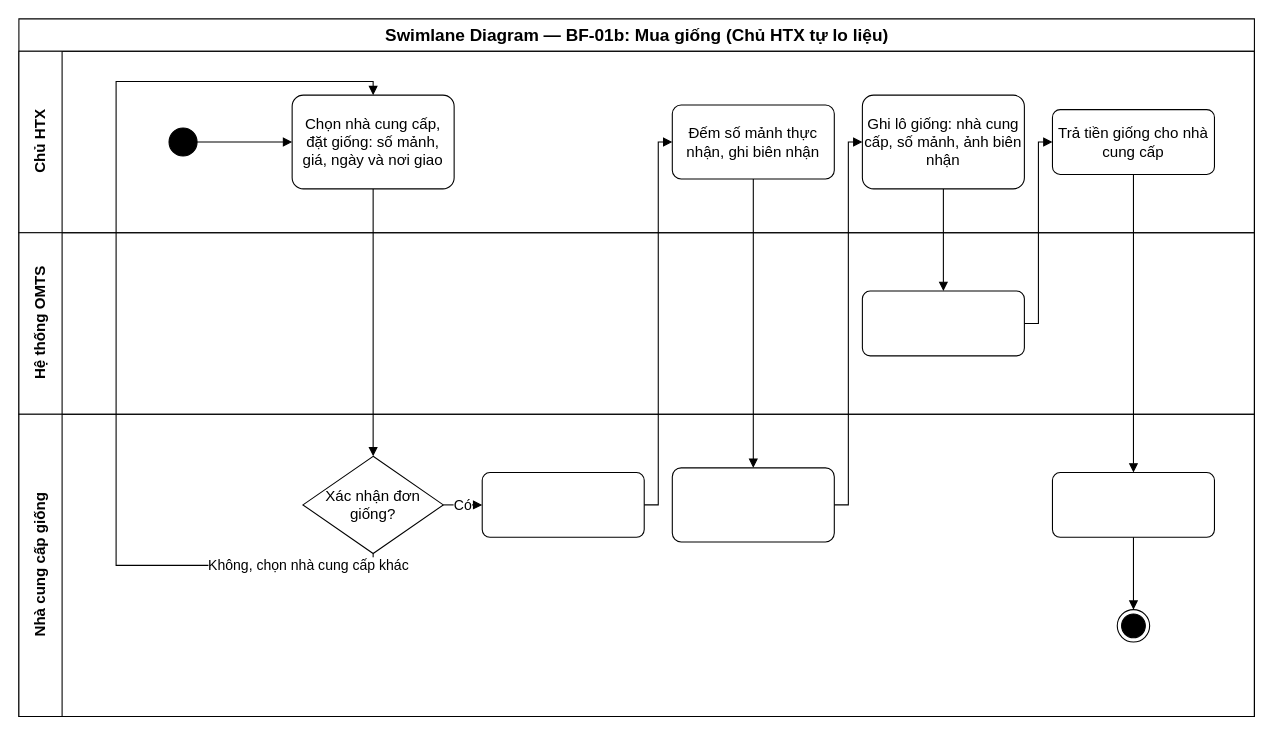
This 1273x735 diagram has some shape labels left out. The centre of each missing label's shape, as x and y in pixels:
"Giao giống tới nơi đã hẹn" belongs at (562,504).
"Tạo mã lô giống, lưu lô" belongs at (942,323).
"Xác nhận số mảnh thực nhận, ký biên nhận" belongs at (752,504).
"Xác nhận đã nhận tiền" belongs at (1132,504).
